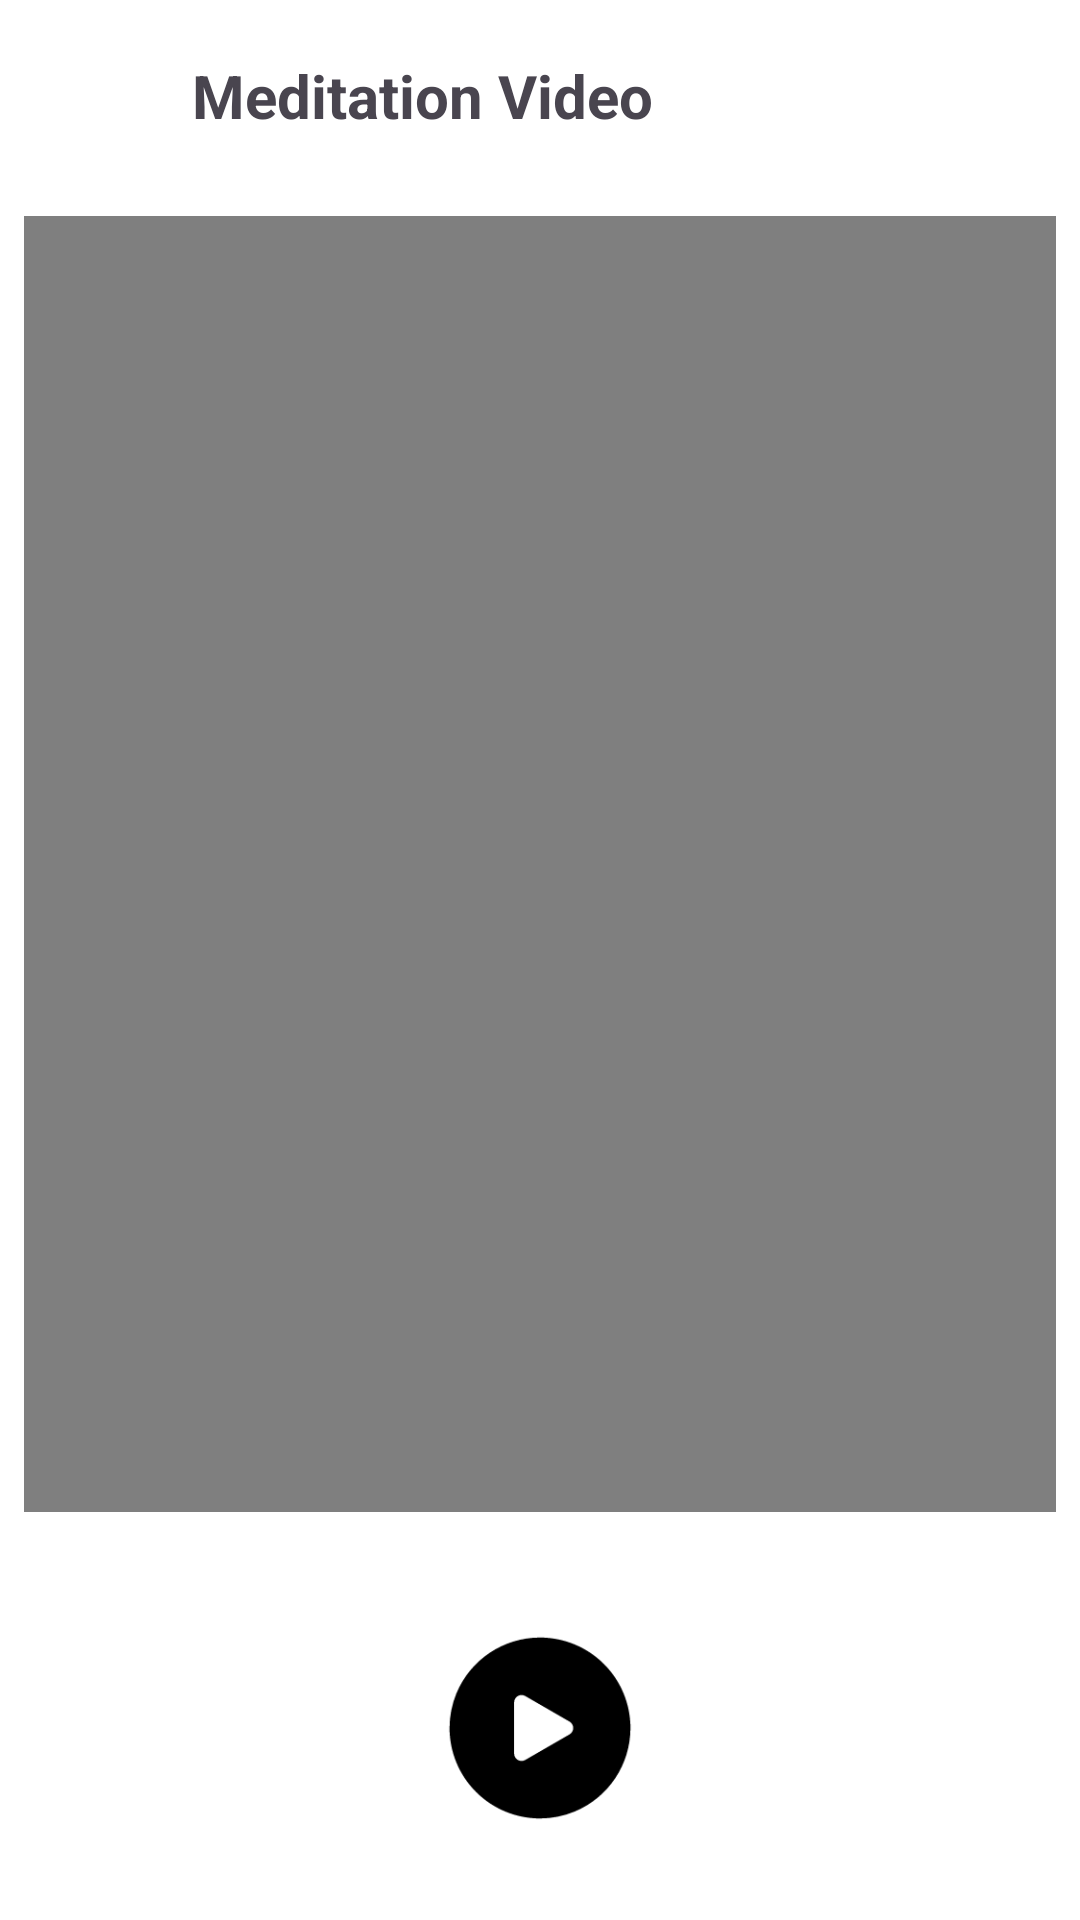

Named icons in this screenshot (1080px x 1920px) and their bounding boxes, (x1, y1, x2, y2):
Play/Pause: (449, 1637, 631, 1819)
